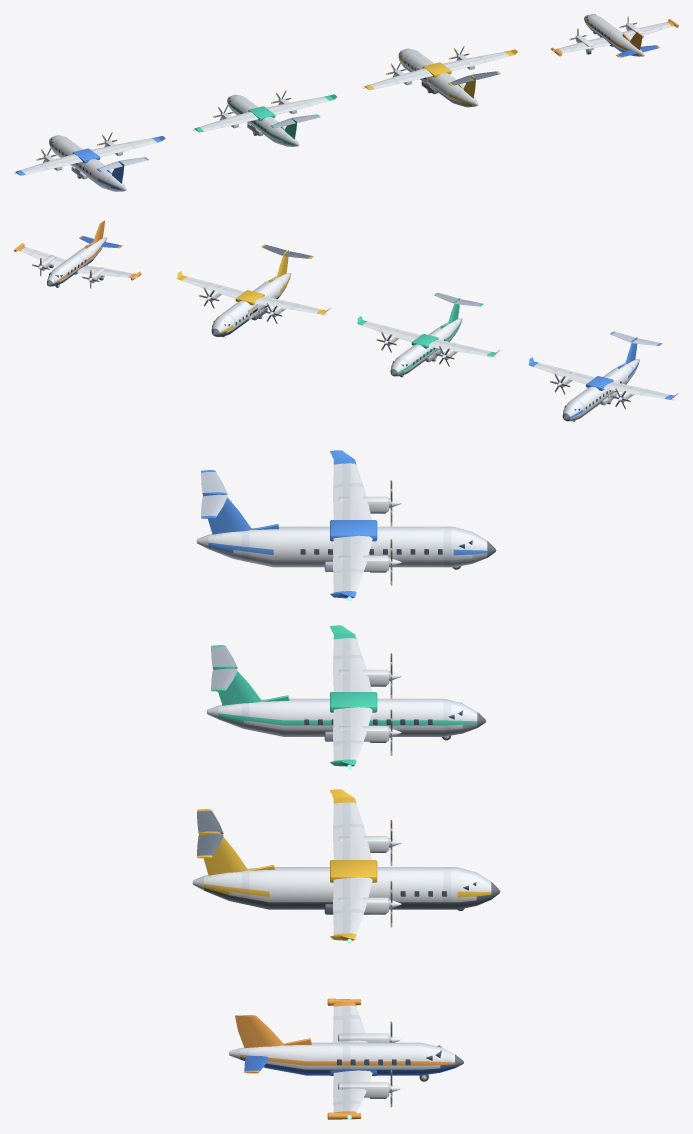
Rendered from aircraft_turboprops.glb.
3 renders of one model, top to bottom at view 1: azimuth 30°, elevation 25°; view 2: azimuth 150°, elevation 25°; view 3: azimuth 270°, elevation 25°, orthographic. The views are drawn at different scales.
Visible parts, largest first — view 1: Turboprop_Cargo_Feeder_Fuselage, Turboprop_Commuter_A_Fuselage, Turboprop_Commuter_B_Fuselage, Turboprop_Utility_Twin_Fuselage; view 2: Turboprop_Cargo_Feeder_Fuselage, Turboprop_Commuter_A_Fuselage, Turboprop_Commuter_B_Fuselage, Turboprop_Utility_Twin_Fuselage; view 3: Turboprop_Cargo_Feeder_Fuselage, Turboprop_Commuter_A_Fuselage, Turboprop_Commuter_B_Fuselage, Turboprop_Utility_Twin_Fuselage.
Part boxes in pixels (bbox=[...]): Turboprop_Cargo_Feeder_Fuselage: bbox=[363, 48, 517, 107]; Turboprop_Commuter_A_Fuselage: bbox=[14, 135, 165, 191]; Turboprop_Commuter_B_Fuselage: bbox=[193, 94, 336, 146]; Turboprop_Utility_Twin_Fuselage: bbox=[551, 14, 678, 57]; Turboprop_Cargo_Feeder_Fuselage: bbox=[176, 244, 330, 336]; Turboprop_Commuter_A_Fuselage: bbox=[528, 331, 678, 421]; Turboprop_Commuter_B_Fuselage: bbox=[356, 292, 499, 376]; Turboprop_Utility_Twin_Fuselage: bbox=[14, 220, 141, 286]; Turboprop_Cargo_Feeder_Fuselage: bbox=[192, 789, 500, 943]; Turboprop_Commuter_A_Fuselage: bbox=[196, 450, 496, 600]; Turboprop_Commuter_B_Fuselage: bbox=[207, 625, 485, 769]; Turboprop_Utility_Twin_Fuselage: bbox=[229, 998, 463, 1119].
Size of the model in its own units: 75.3 by 4.35 by 15.24.
Materials: 17 (3 with a texture image).
